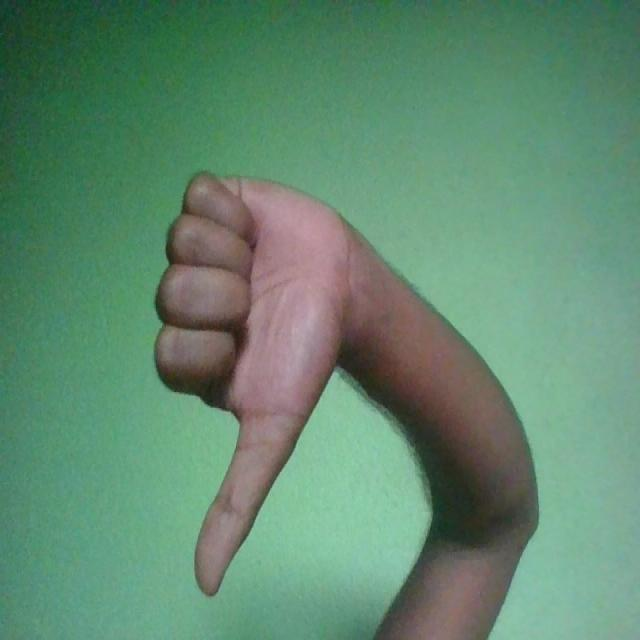Dislike: (156, 171, 357, 597)
